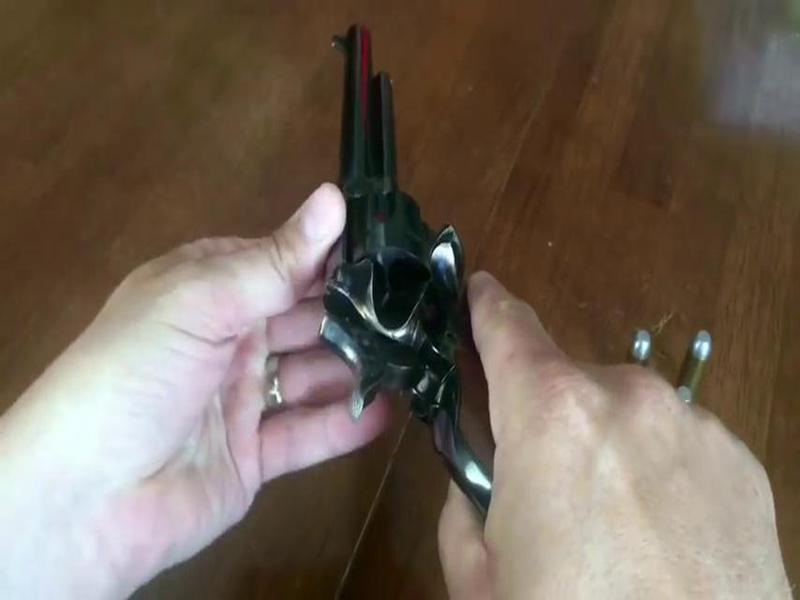Revolver: (283, 23, 525, 479)
